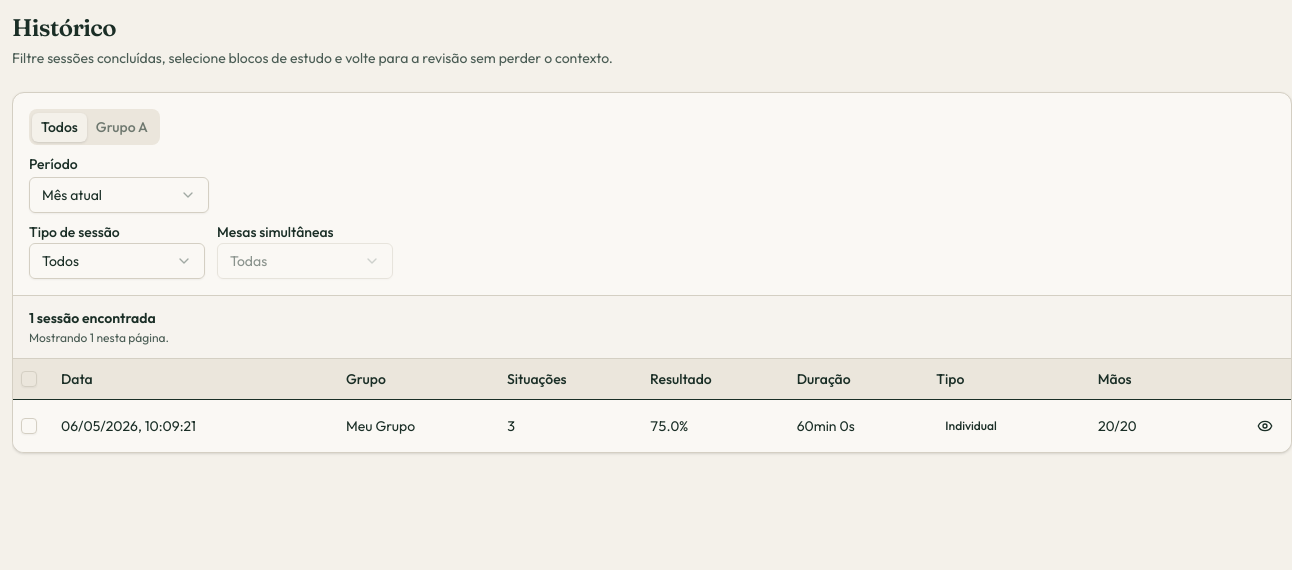
Test case: HistoryPage › selection cleared when filters change
Expected: the text "Meu Grupo" is shown, x1=338 y1=399 x2=499 y2=452
Click the checkbox next to "06/05/2026, 10:09:21" at (29, 426), box x1=21 y1=418 x2=37 y2=434
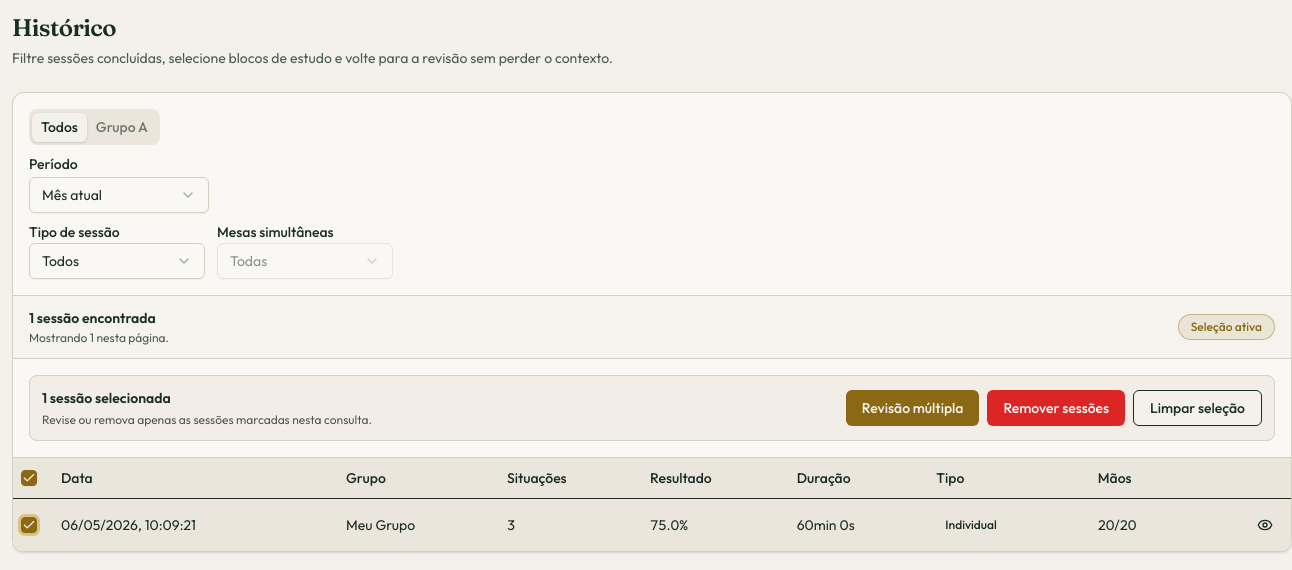
Now the message with test id "selection-toolbar" is shown, box x1=29 y1=375 x2=1275 y2=441
Click the tab "Grupo A" at (122, 127), box x1=87 y1=112 x2=157 y2=142
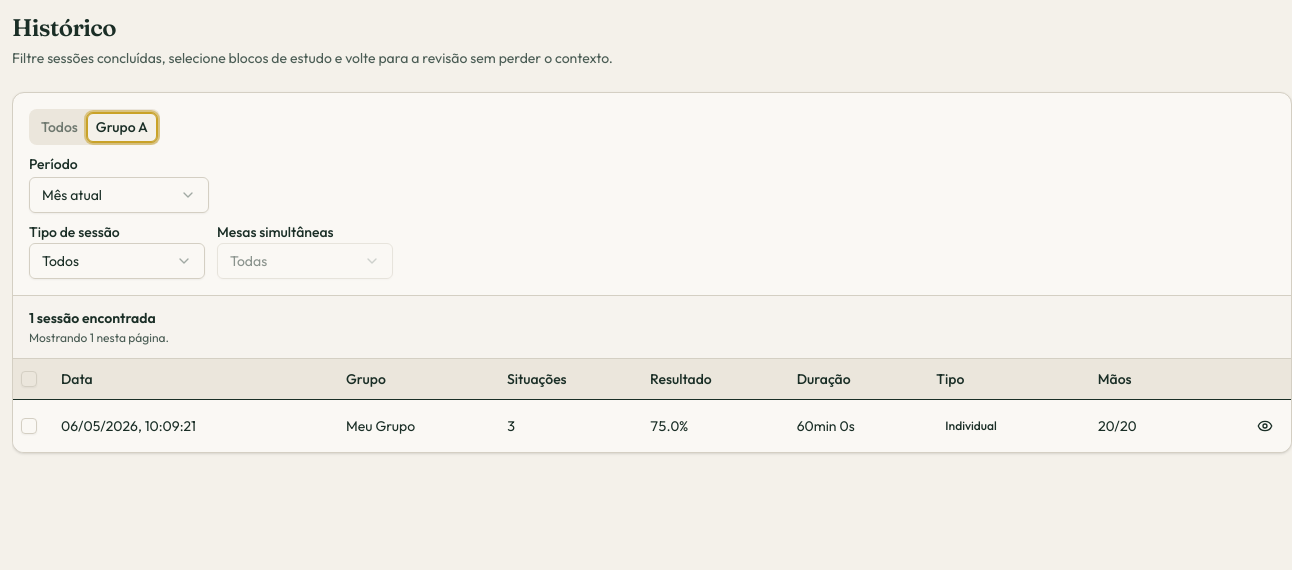
Now the message with test id "selection-toolbar" is gone
